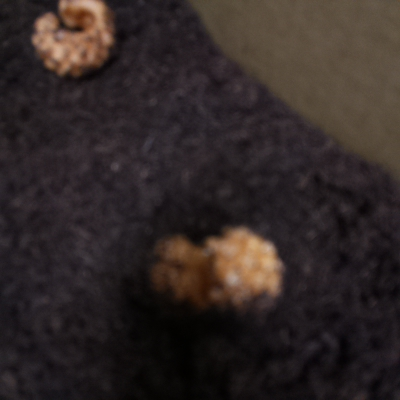eggs: (139, 211, 292, 336), (22, 1, 127, 85)
